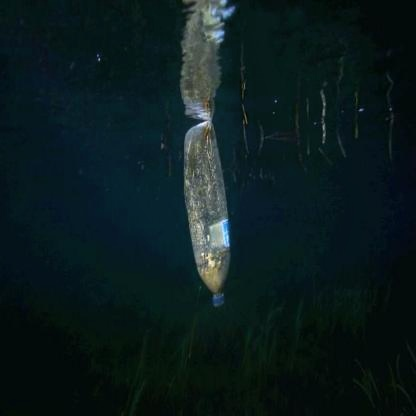pbottle: (172, 114, 238, 312)
